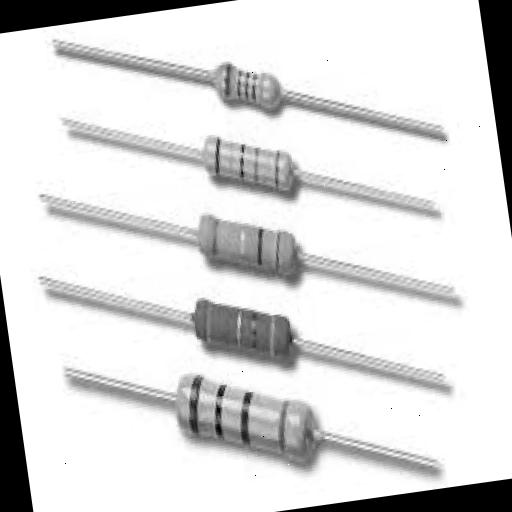RESISTOR: (144, 354, 332, 502), (156, 176, 318, 304), (185, 26, 333, 134), (163, 282, 314, 378), (176, 126, 339, 211)
